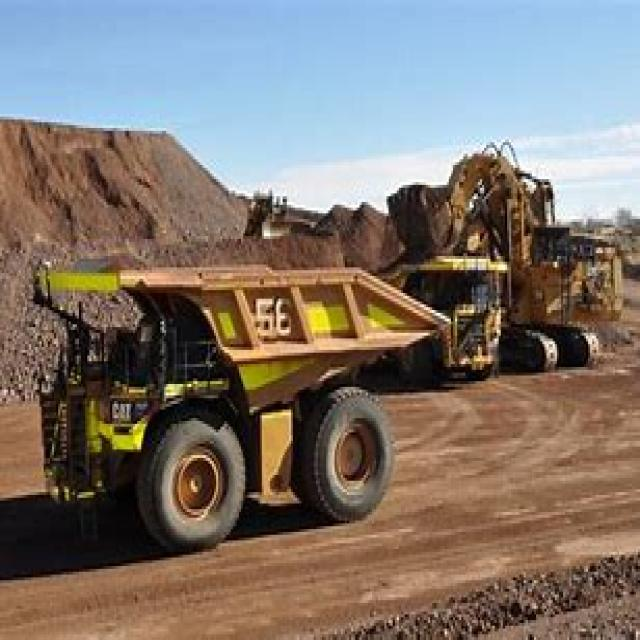dump_truck: (35, 248, 453, 554)
